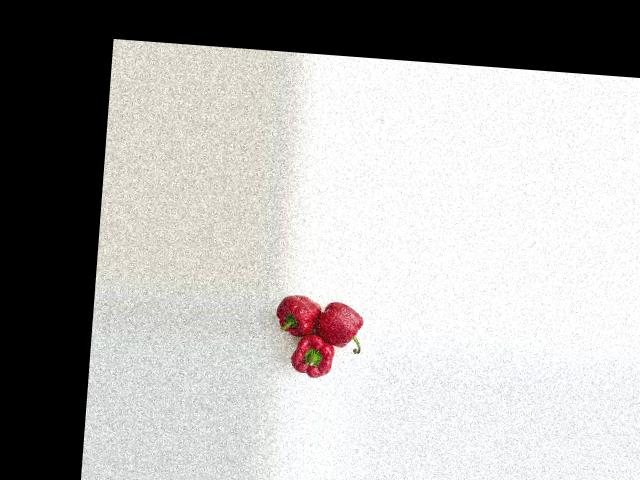bell_pepper: (318, 298, 375, 357)
